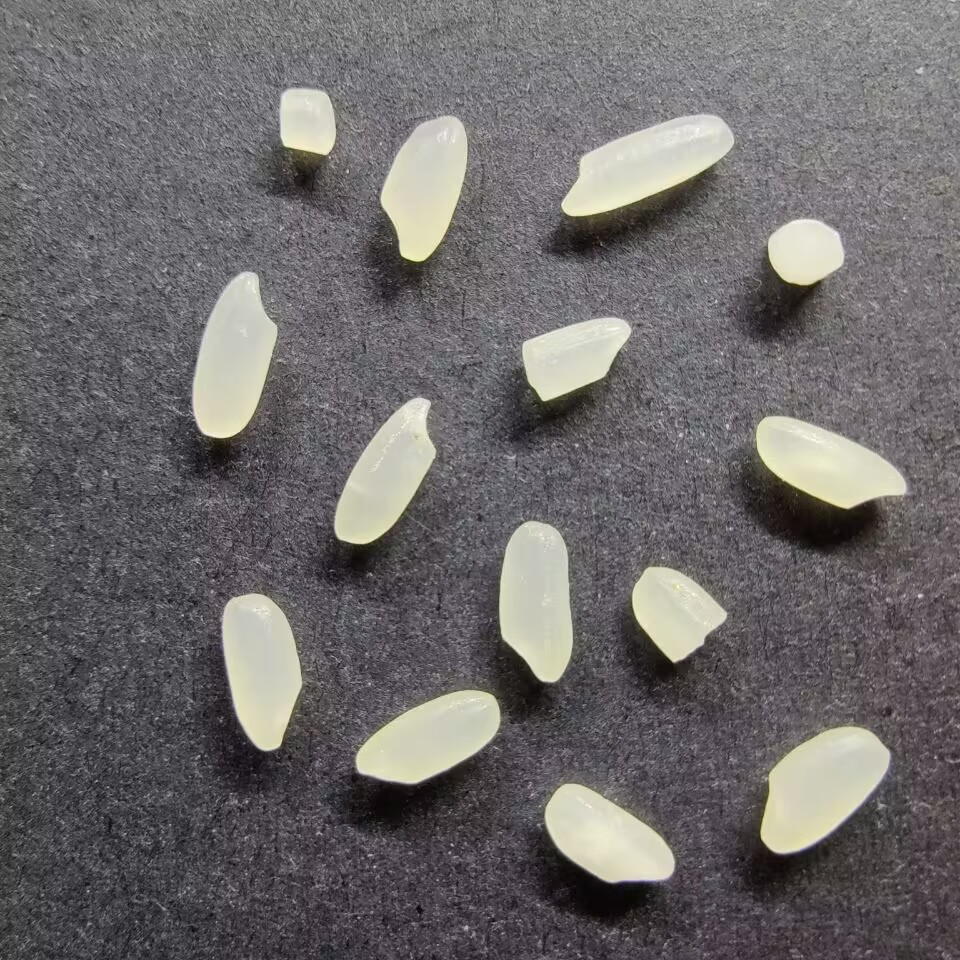broken: (517, 316, 632, 401), (630, 564, 728, 663), (765, 218, 847, 285), (276, 86, 339, 157)
rice: (557, 110, 737, 217), (757, 724, 891, 855), (329, 394, 440, 547), (752, 413, 908, 511), (191, 270, 280, 441), (352, 688, 502, 786), (377, 115, 472, 263), (543, 781, 677, 885), (219, 592, 305, 752), (496, 519, 577, 684)
